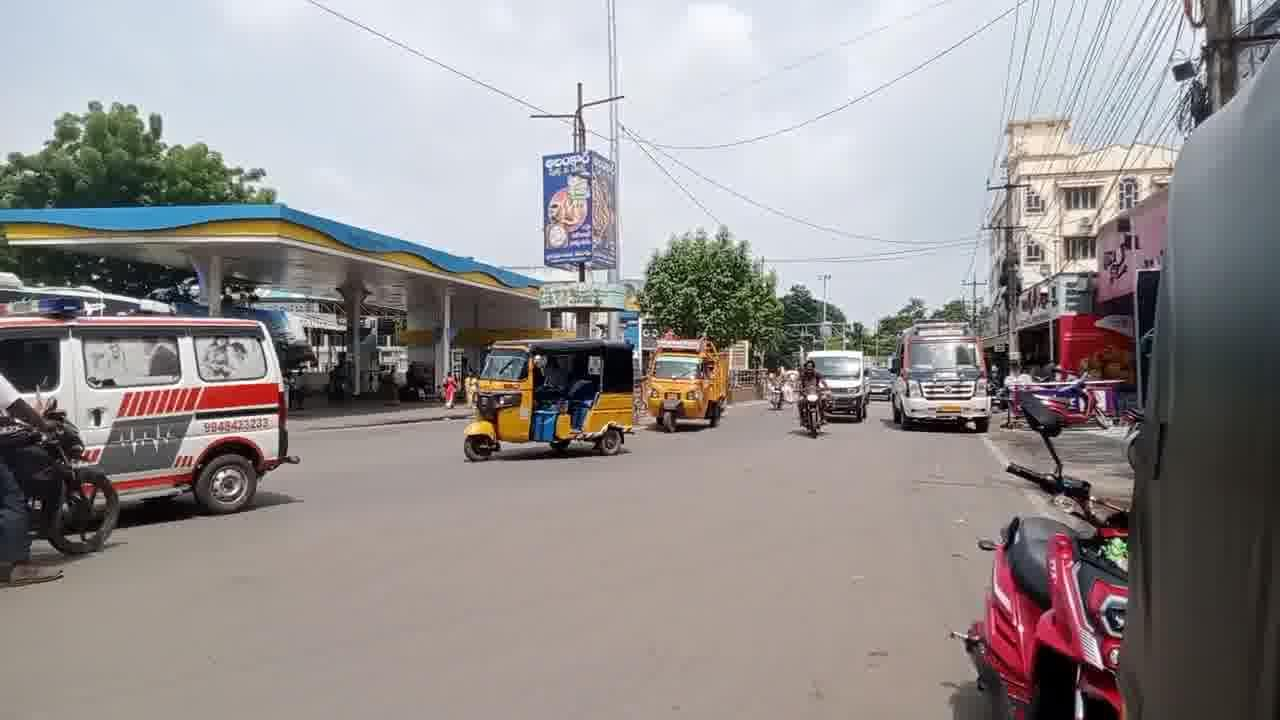AMBULANCE: (7, 306, 291, 530), (874, 309, 1010, 436)
